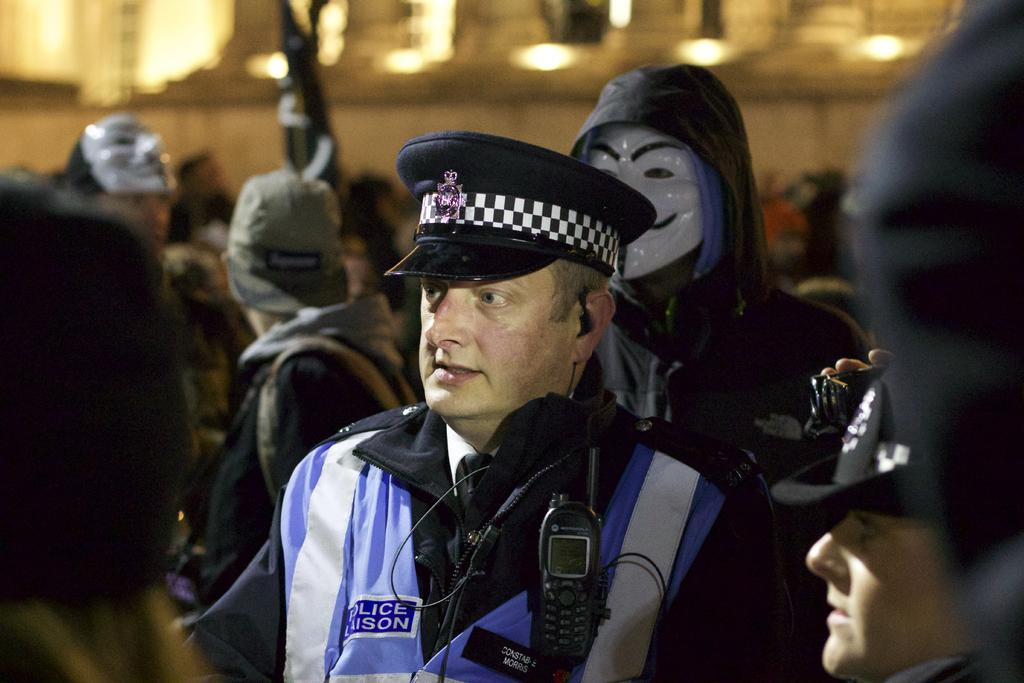Hat: (378, 128, 664, 282), (769, 362, 934, 509), (217, 175, 351, 311)
